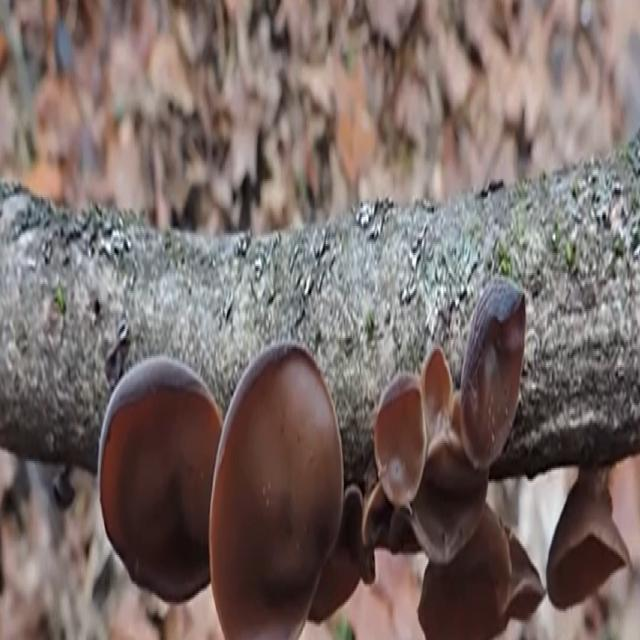Fase Muda: (100, 339, 347, 637), (367, 323, 533, 623), (539, 453, 634, 613)
